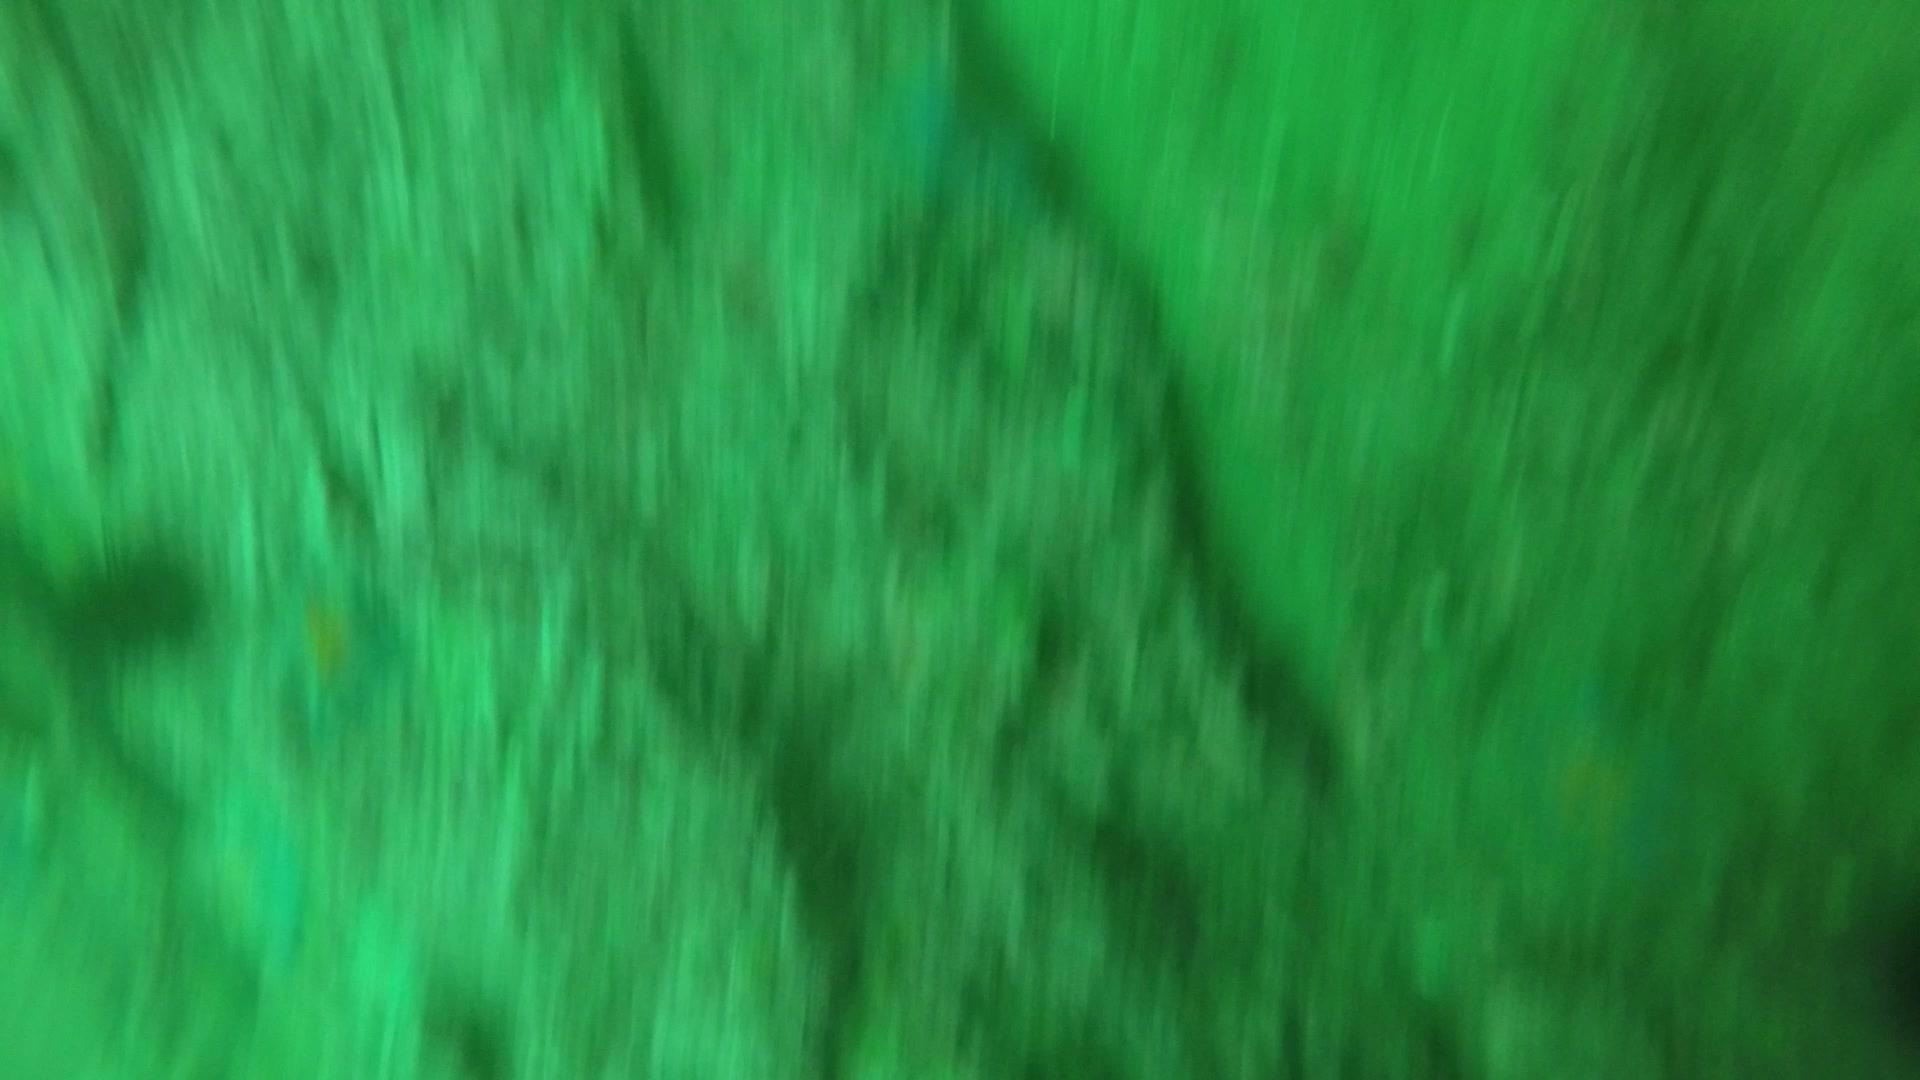echinus: (40, 527, 215, 669)
starfish: (1491, 666, 1708, 910), (851, 13, 1088, 224), (249, 553, 411, 742), (181, 800, 324, 986)
